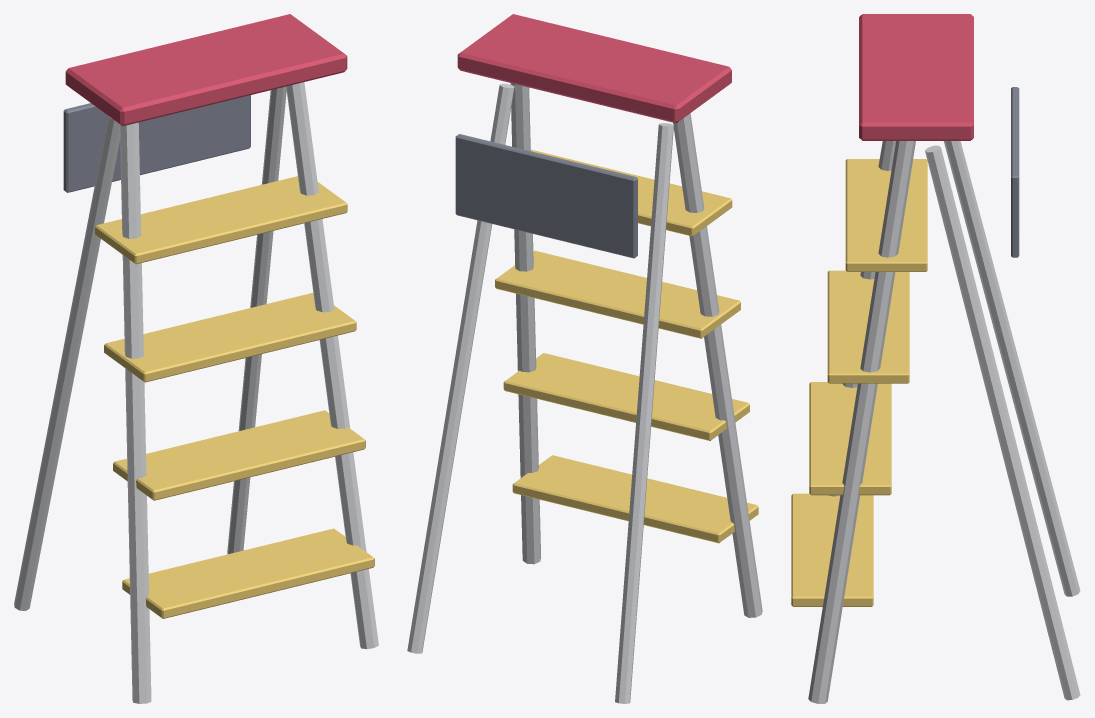
The model's file is cinema-multiplex-and-foyer-staff-step-ladder-b753b404__34664.glb.
3 renders of one model, left to right at view 1: azimuth 30°, elevation 25°; view 2: azimuth 150°, elevation 25°; view 3: azimuth 270°, elevation 25°, orthographic. The views are drawn at different scales.
Visible parts, largest first — view 1: staff-step-ladder; view 2: staff-step-ladder; view 3: staff-step-ladder.
Boxes of the visible parts, x1,y1,x2,y2 form: staff-step-ladder: (14, 14, 378, 703); staff-step-ladder: (407, 14, 762, 703); staff-step-ladder: (791, 14, 1080, 703).
Size of the model in its own units: 0.6878 by 1.55 by 0.7042.
